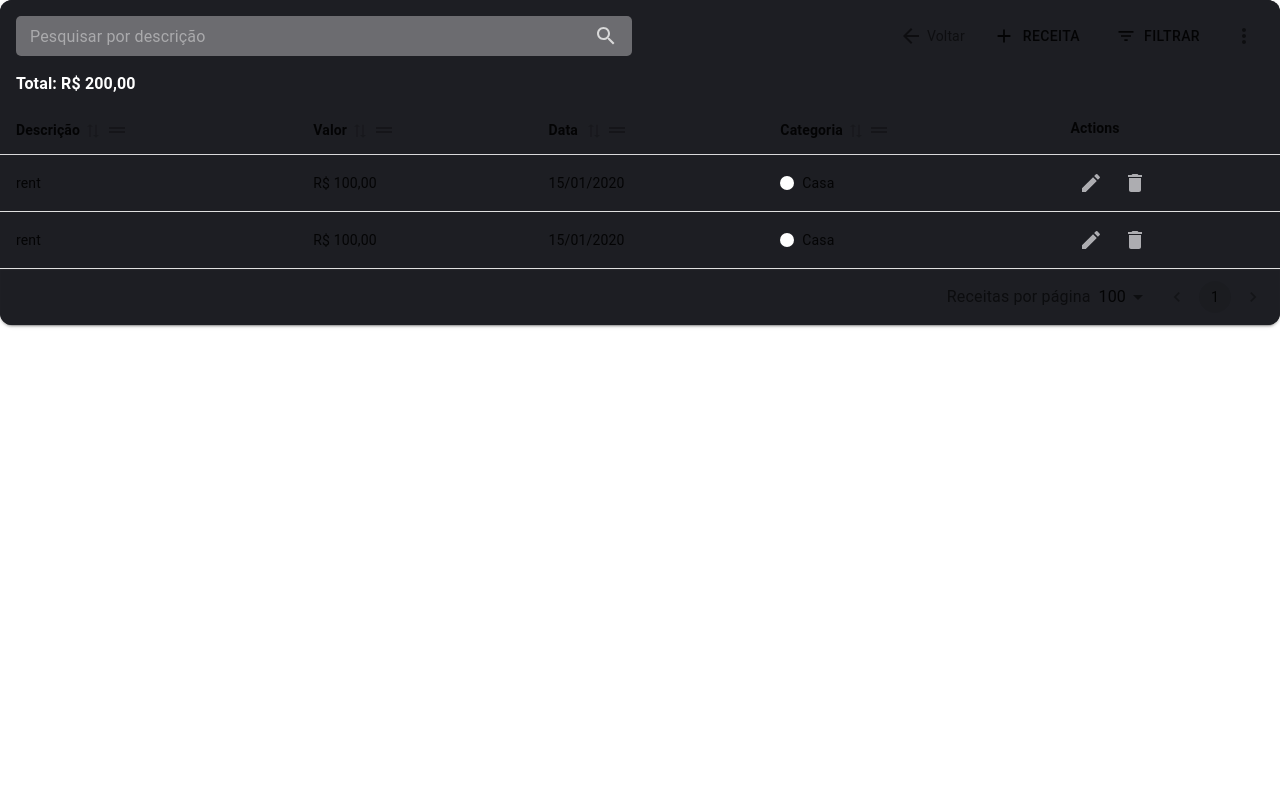
fixed rows keep the existing future deletion toggle and balance/report invalidation
The width and height of the screenshot is (1280, 800).
Click the 1st button named "Deletar".
click(1134, 183)  # box [1114,163,1154,203]
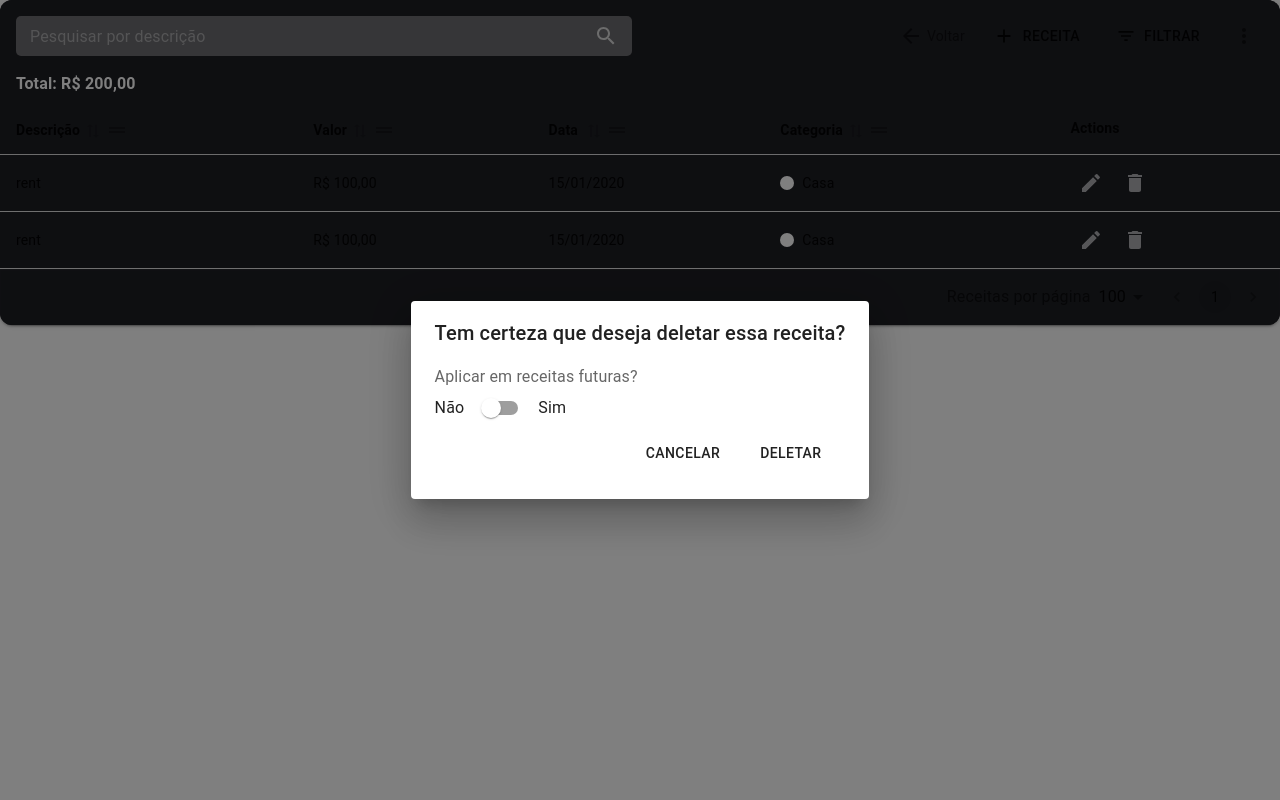
Now the text "Aplicar em receitas futuras?" is shown, box [435,367,638,386]
Click the checkbox.
click(500, 408)  # box [435,398,566,418]
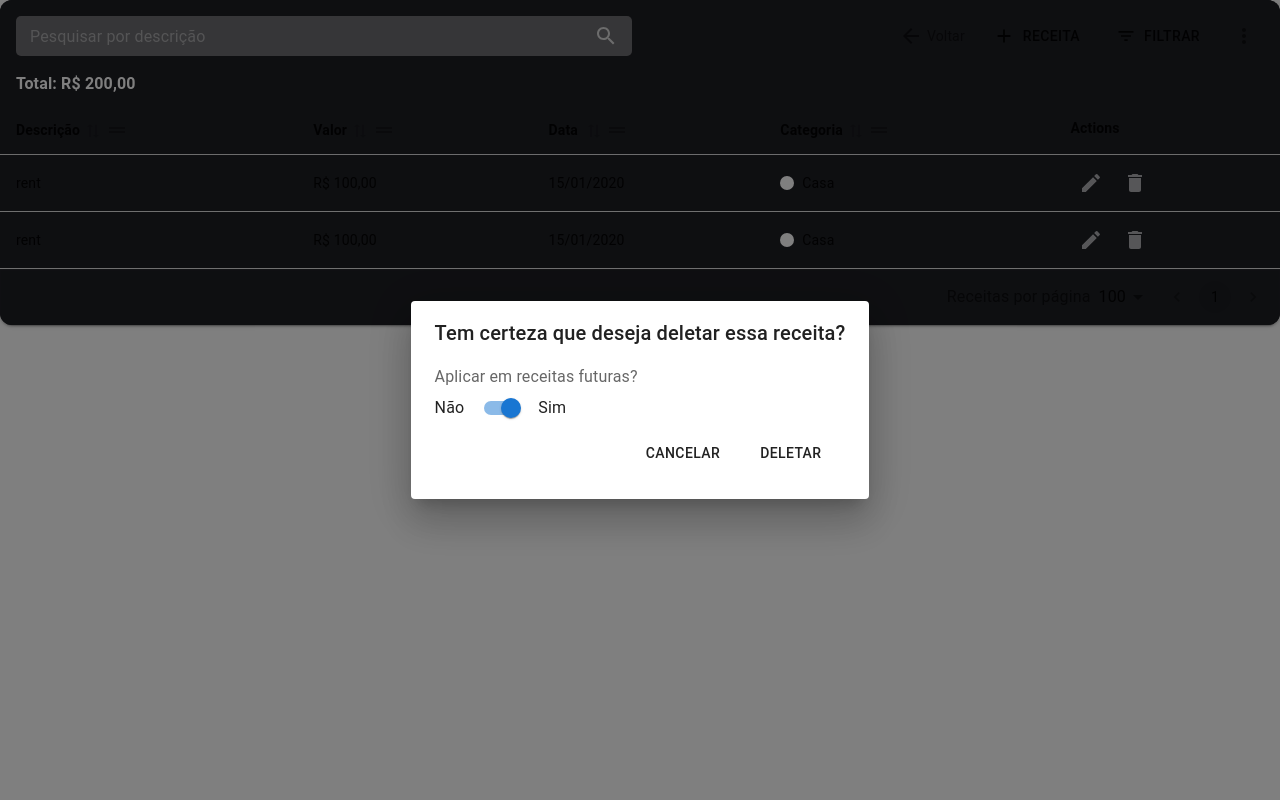
Click the button "Deletar".
click(791, 453)  # box [744,435,838,471]
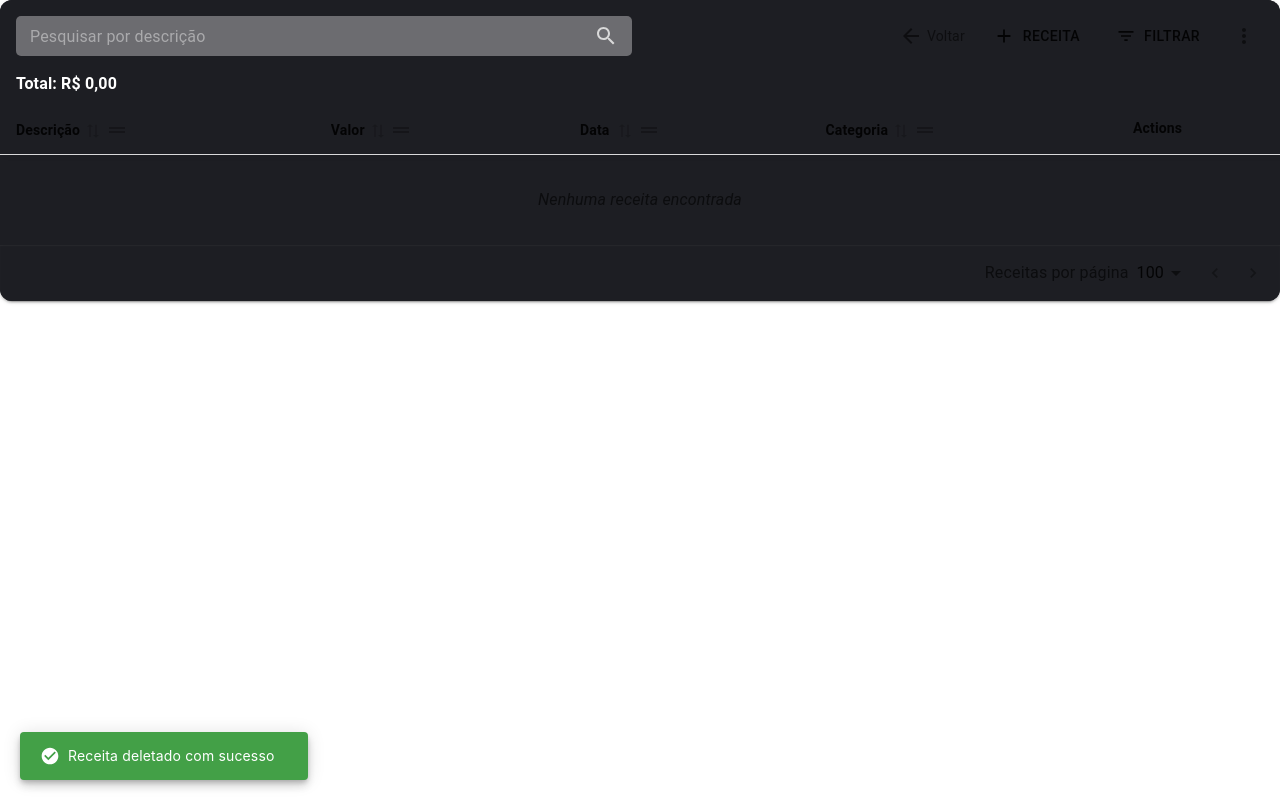
Now the text "Total: R$ 0,00" is shown, box [16,74,117,93]
